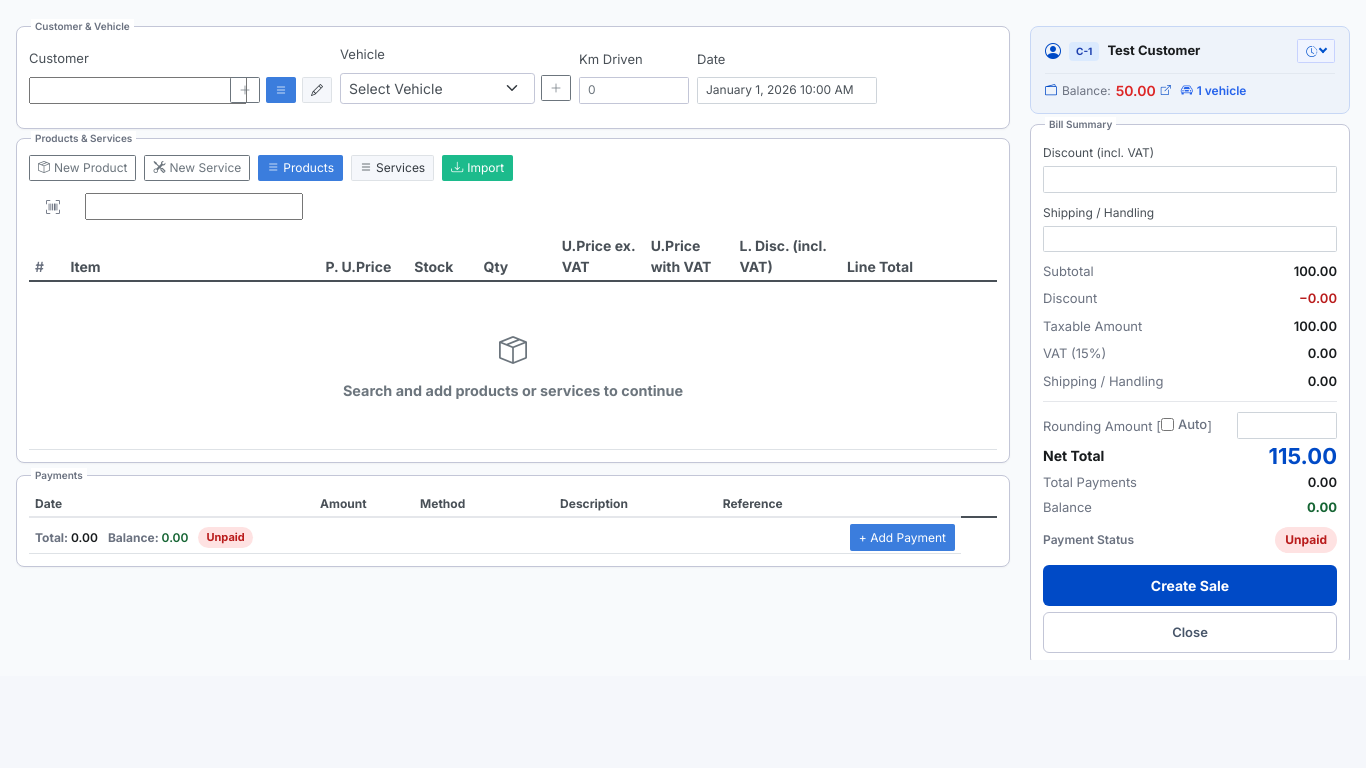
Scenario: Vehicle list modal — Issue 3 › clicking the vehicle count badge opens the vehicle list modal
The width and height of the screenshot is (1366, 768).
Check: the text "Create New Vehicle" is not shown
Step 1. Click the button "1 vehicle" → (1214, 91), box [1181,82,1246,100]
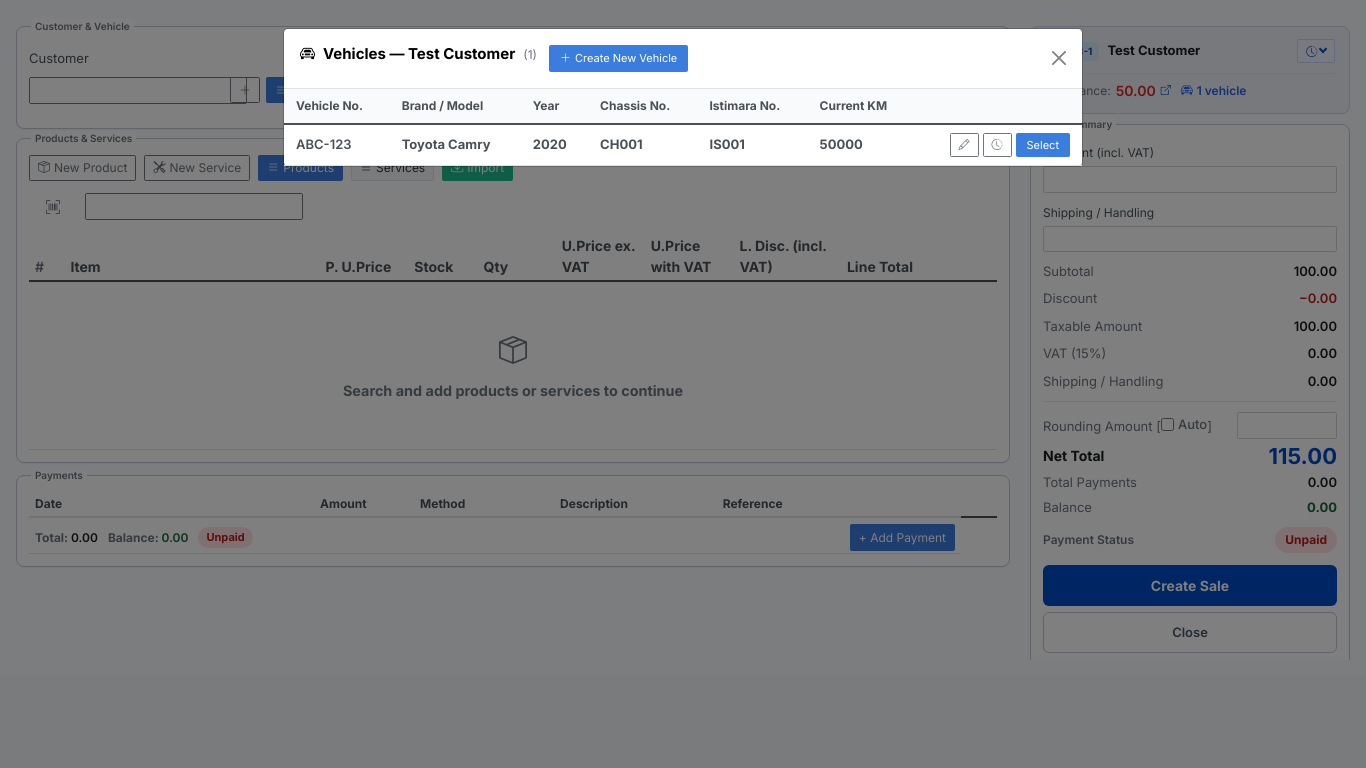
Check: the button "Create New Vehicle" is shown, box [549,45,688,72]
